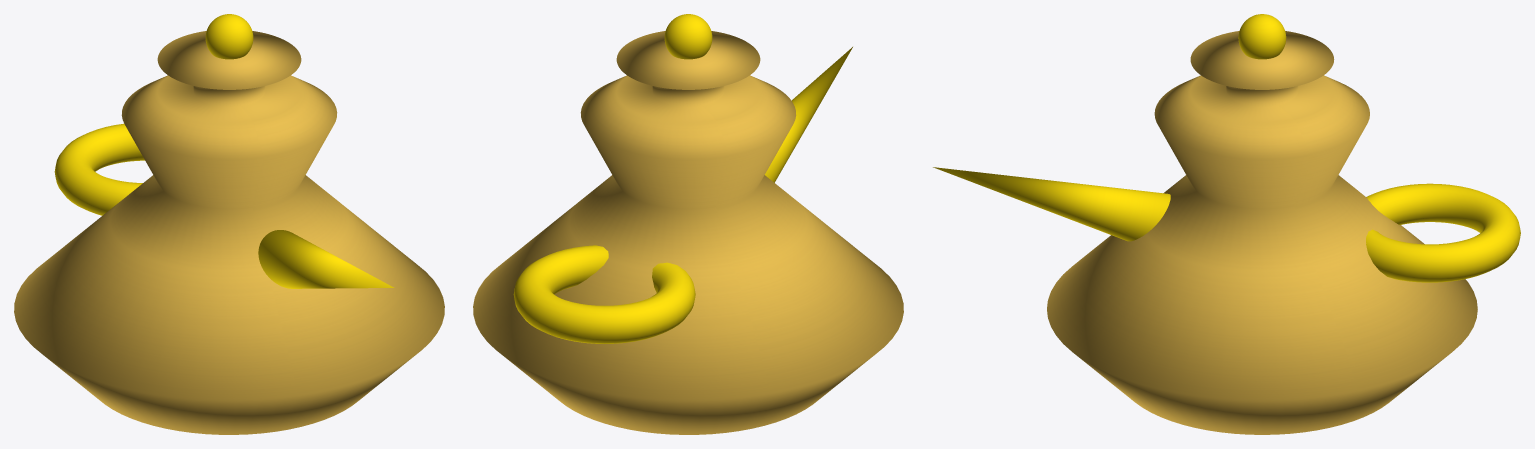
File: ai_parts_4e644f.glb
3 renders of one model, left to right at view 1: azimuth 30°, elevation 25°; view 2: azimuth 150°, elevation 25°; view 3: azimuth 270°, elevation 25°, orthographic.
Parts seen in each view (by area): view 1: 00_lamp_body, 02_handle, 01_spout, 03_lid_knob; view 2: 00_lamp_body, 02_handle, 01_spout, 03_lid_knob; view 3: 00_lamp_body, 02_handle, 01_spout, 03_lid_knob.
Boxes of the visible parts, box(x1,y1,x2,y2) form: 00_lamp_body: box(14, 31, 444, 434); 02_handle: box(54, 123, 144, 215); 01_spout: box(258, 230, 394, 288); 03_lid_knob: box(205, 14, 253, 59); 00_lamp_body: box(473, 31, 903, 434); 02_handle: box(513, 245, 695, 343); 01_spout: box(765, 47, 852, 182); 03_lid_knob: box(664, 14, 712, 59); 00_lamp_body: box(1047, 31, 1477, 434); 02_handle: box(1366, 183, 1520, 282); 01_spout: box(933, 167, 1170, 241); 03_lid_knob: box(1238, 14, 1286, 59).
Bounding box in the file's own units: 18 × 16.5 × 24.6.
2 materials, 2 textured.
